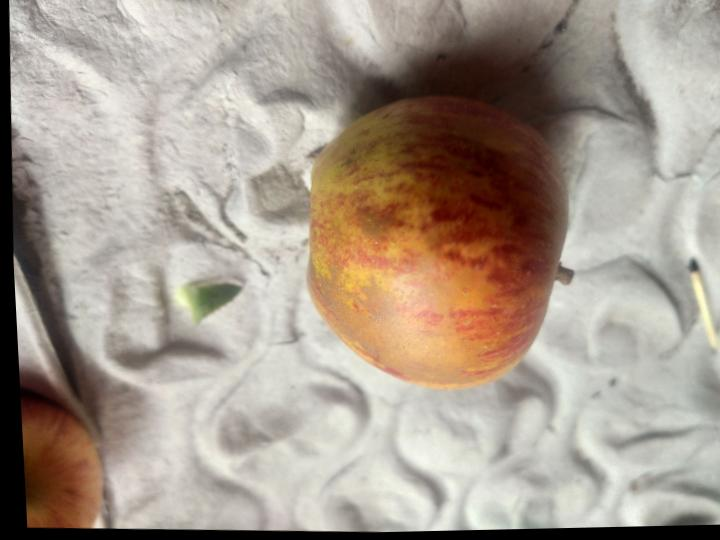apple: (307, 96, 574, 388)
bruise_discoloration: (308, 239, 549, 388)
